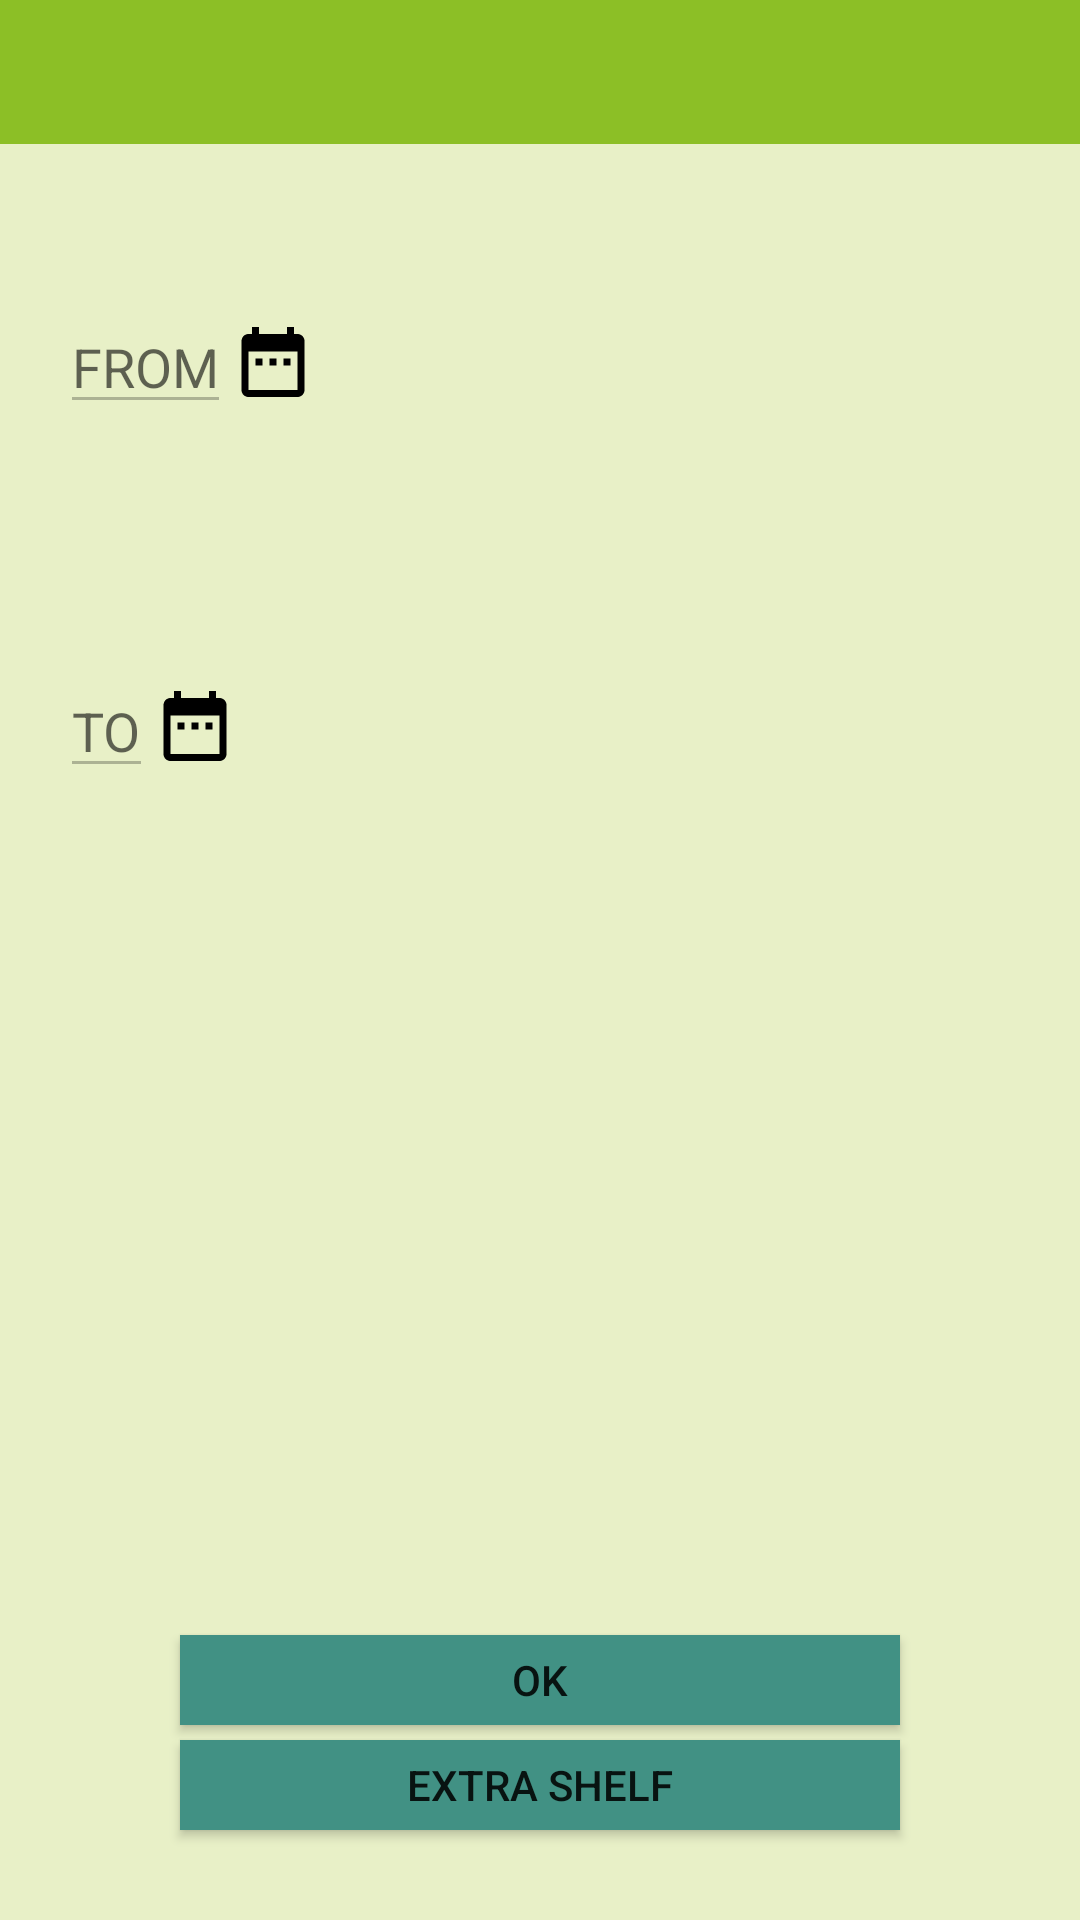

Icons on this 1080*1920 Android screen, each with the point to tap as (x,y):
choose date: (273,362), (195,726)
